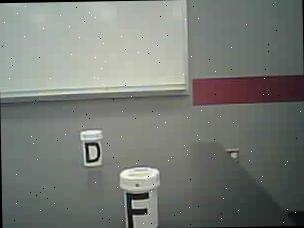Bottle D: (75, 128, 107, 170)
Bottle F: (114, 163, 168, 228)
